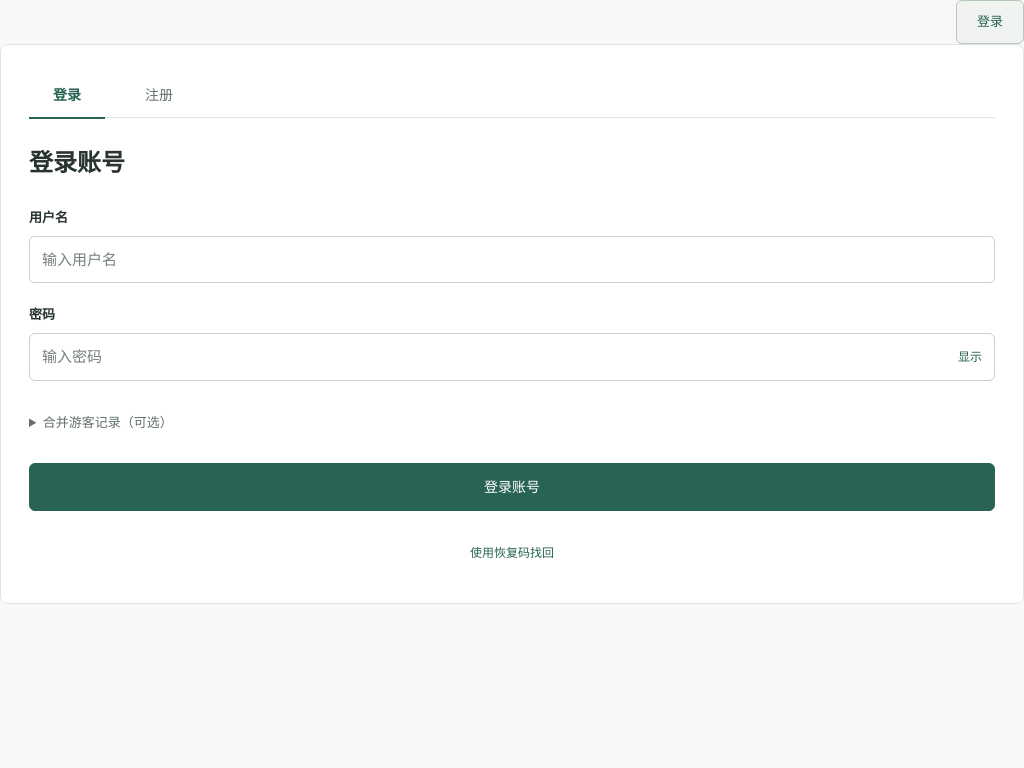
Test case: updates the header after registration without losing the once-only recovery code
Step 1. Click the button "注册" → (159, 95), box [121, 73, 197, 117]
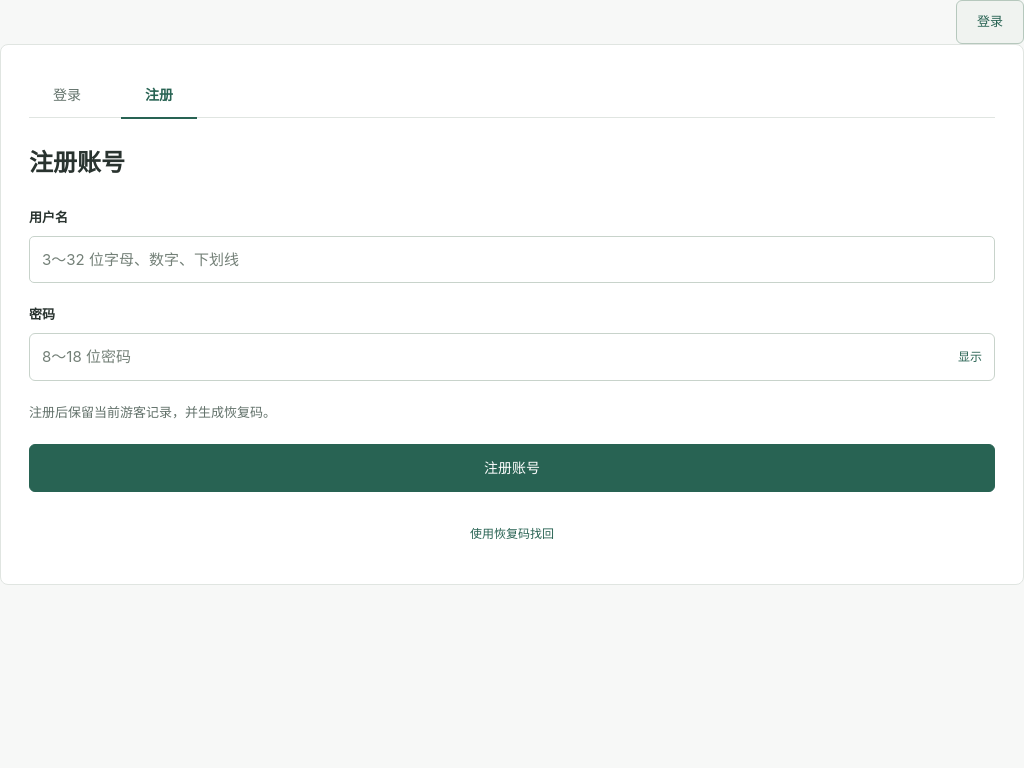
Step 2. Type "studio_chen" into the field labelled "用户名" → (512, 259), box [29, 236, 995, 283]
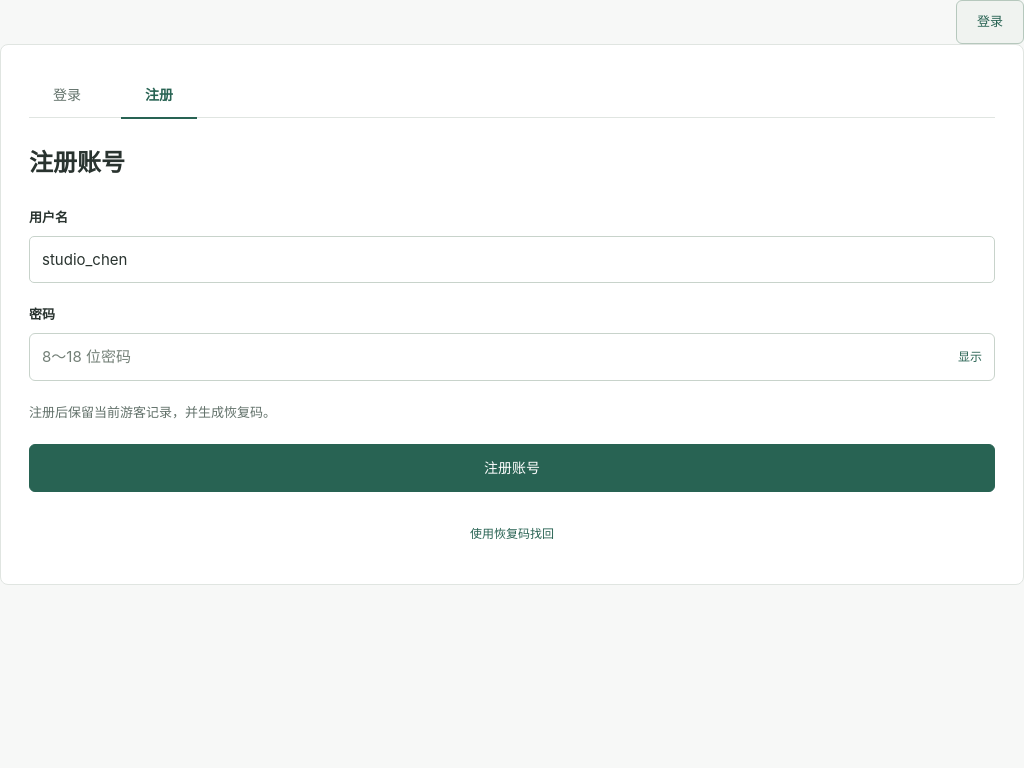
Step 3. Type "test-password26!" into the password field labelled "密码" → (488, 357), box [30, 334, 946, 380]
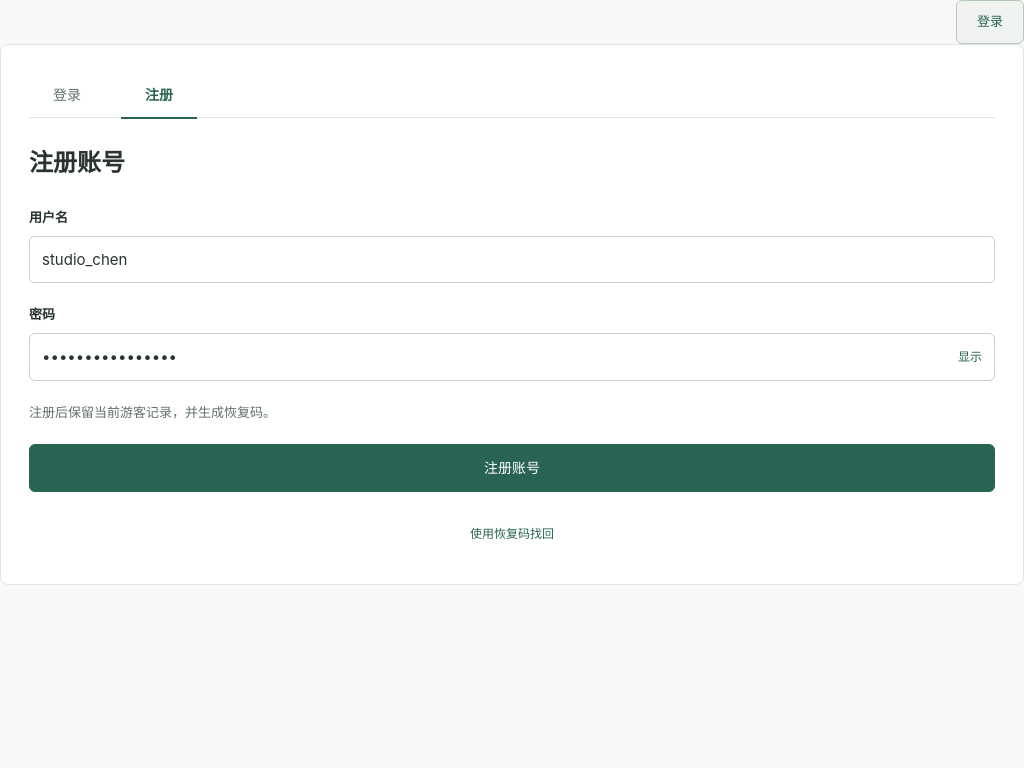
Step 4. Click the button "注册账号" → (512, 468), box [29, 444, 995, 492]
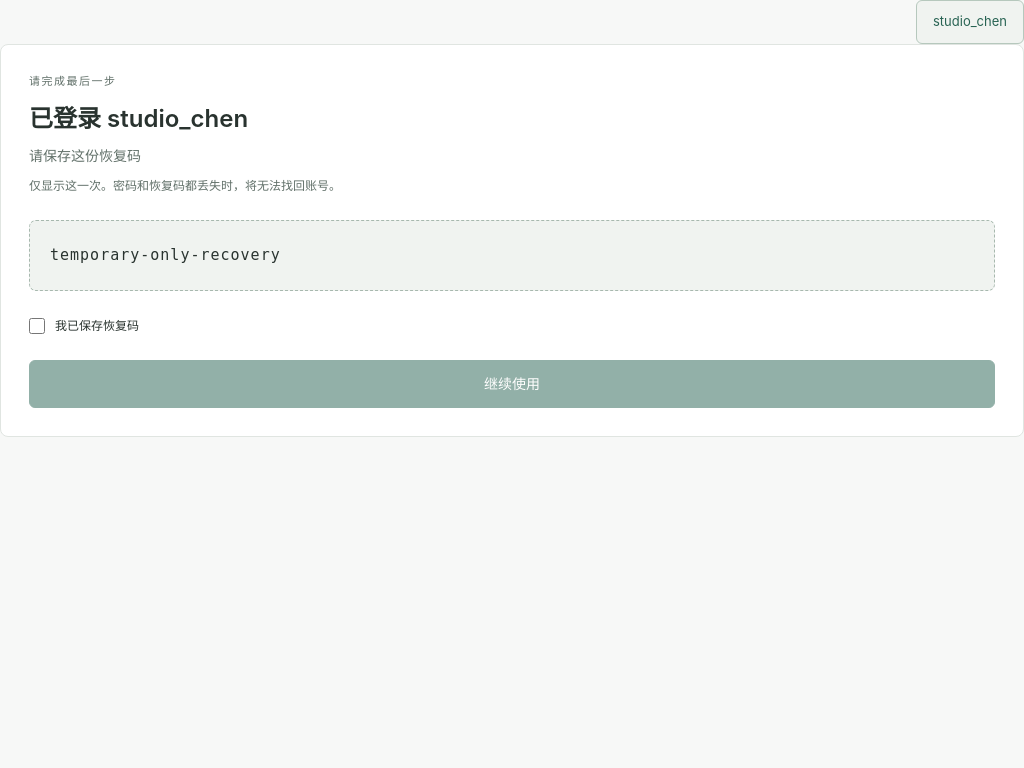
Now the text named "一次性恢复码" reads "temporary-only-recovery", box [50, 246, 281, 264]
Now the link with aria-label "管理账号：studio_chen" is shown, box [916, 0, 1023, 44]
Now the text named "一次性恢复码" is shown, box [29, 220, 995, 291]
